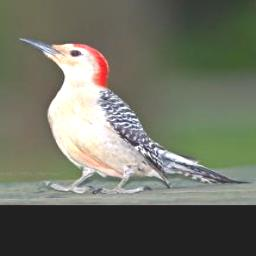Woodpecker: (14, 34, 252, 195)
